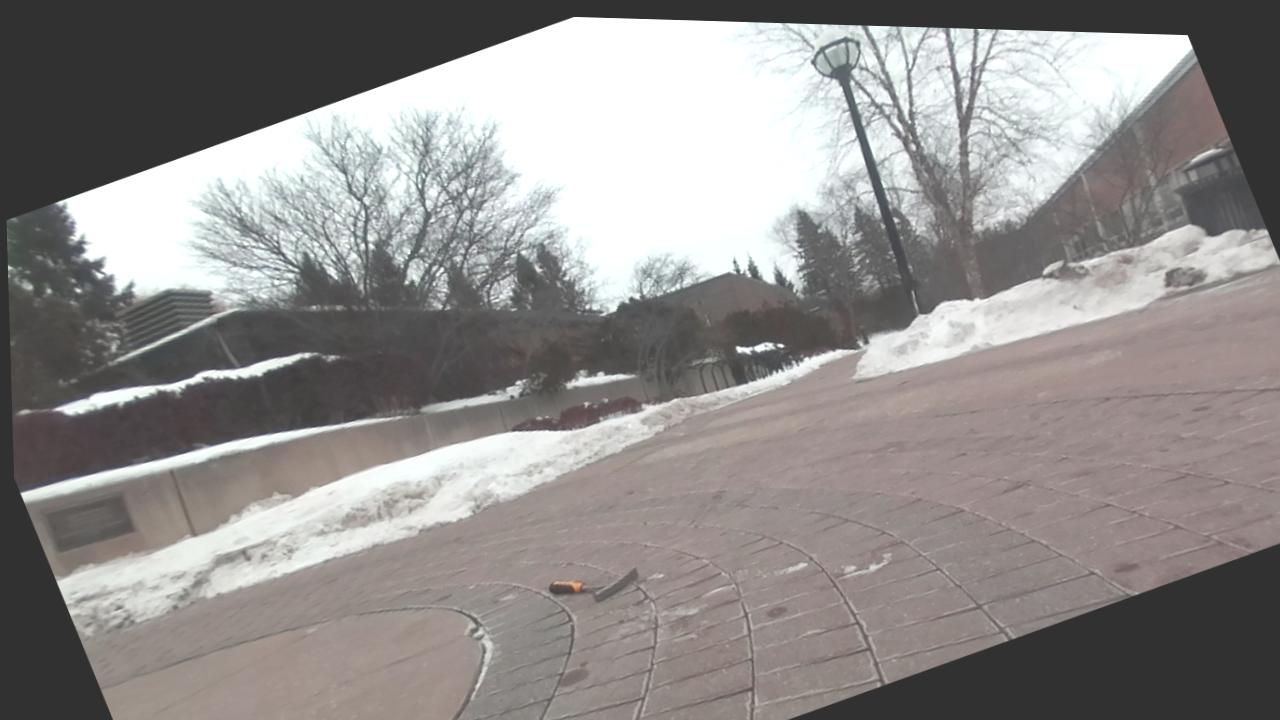pick: (548, 568, 637, 601)
